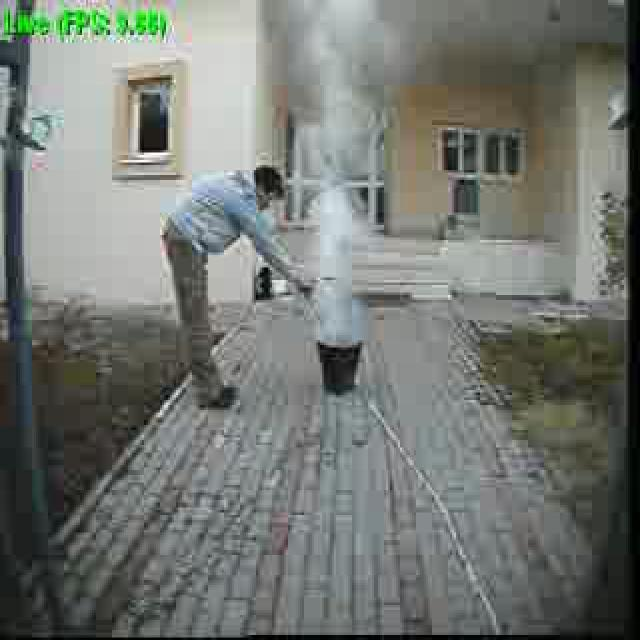Smoke: (276, 7, 388, 318)
